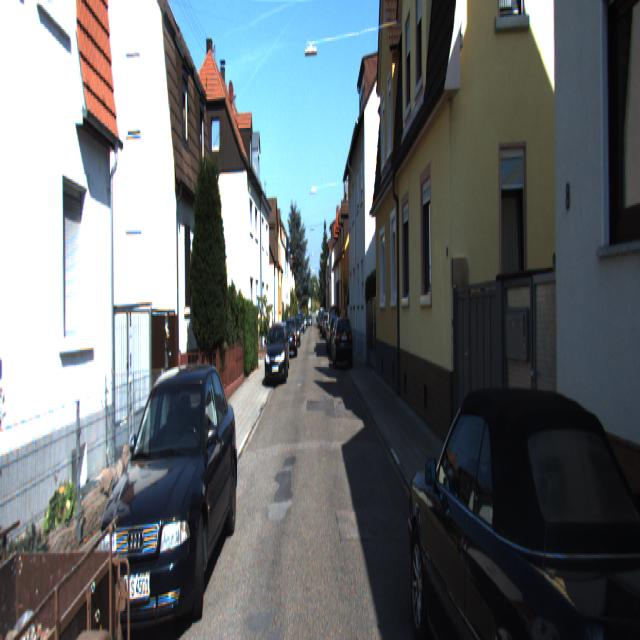Car: (406, 350, 640, 638), (94, 353, 240, 638), (265, 324, 288, 388), (333, 315, 355, 373), (285, 317, 298, 358)
DontCare: (317, 306, 338, 348), (298, 311, 313, 333)
Misc: (0, 485, 136, 638)
